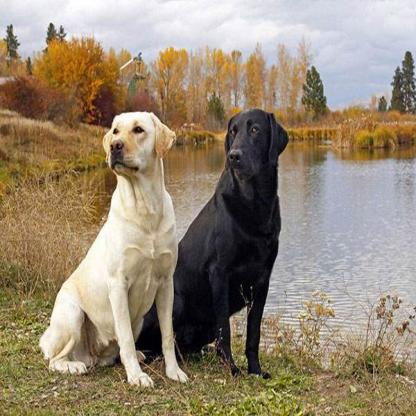Labarador Retriever: (36, 115, 187, 386), (166, 112, 290, 370)
